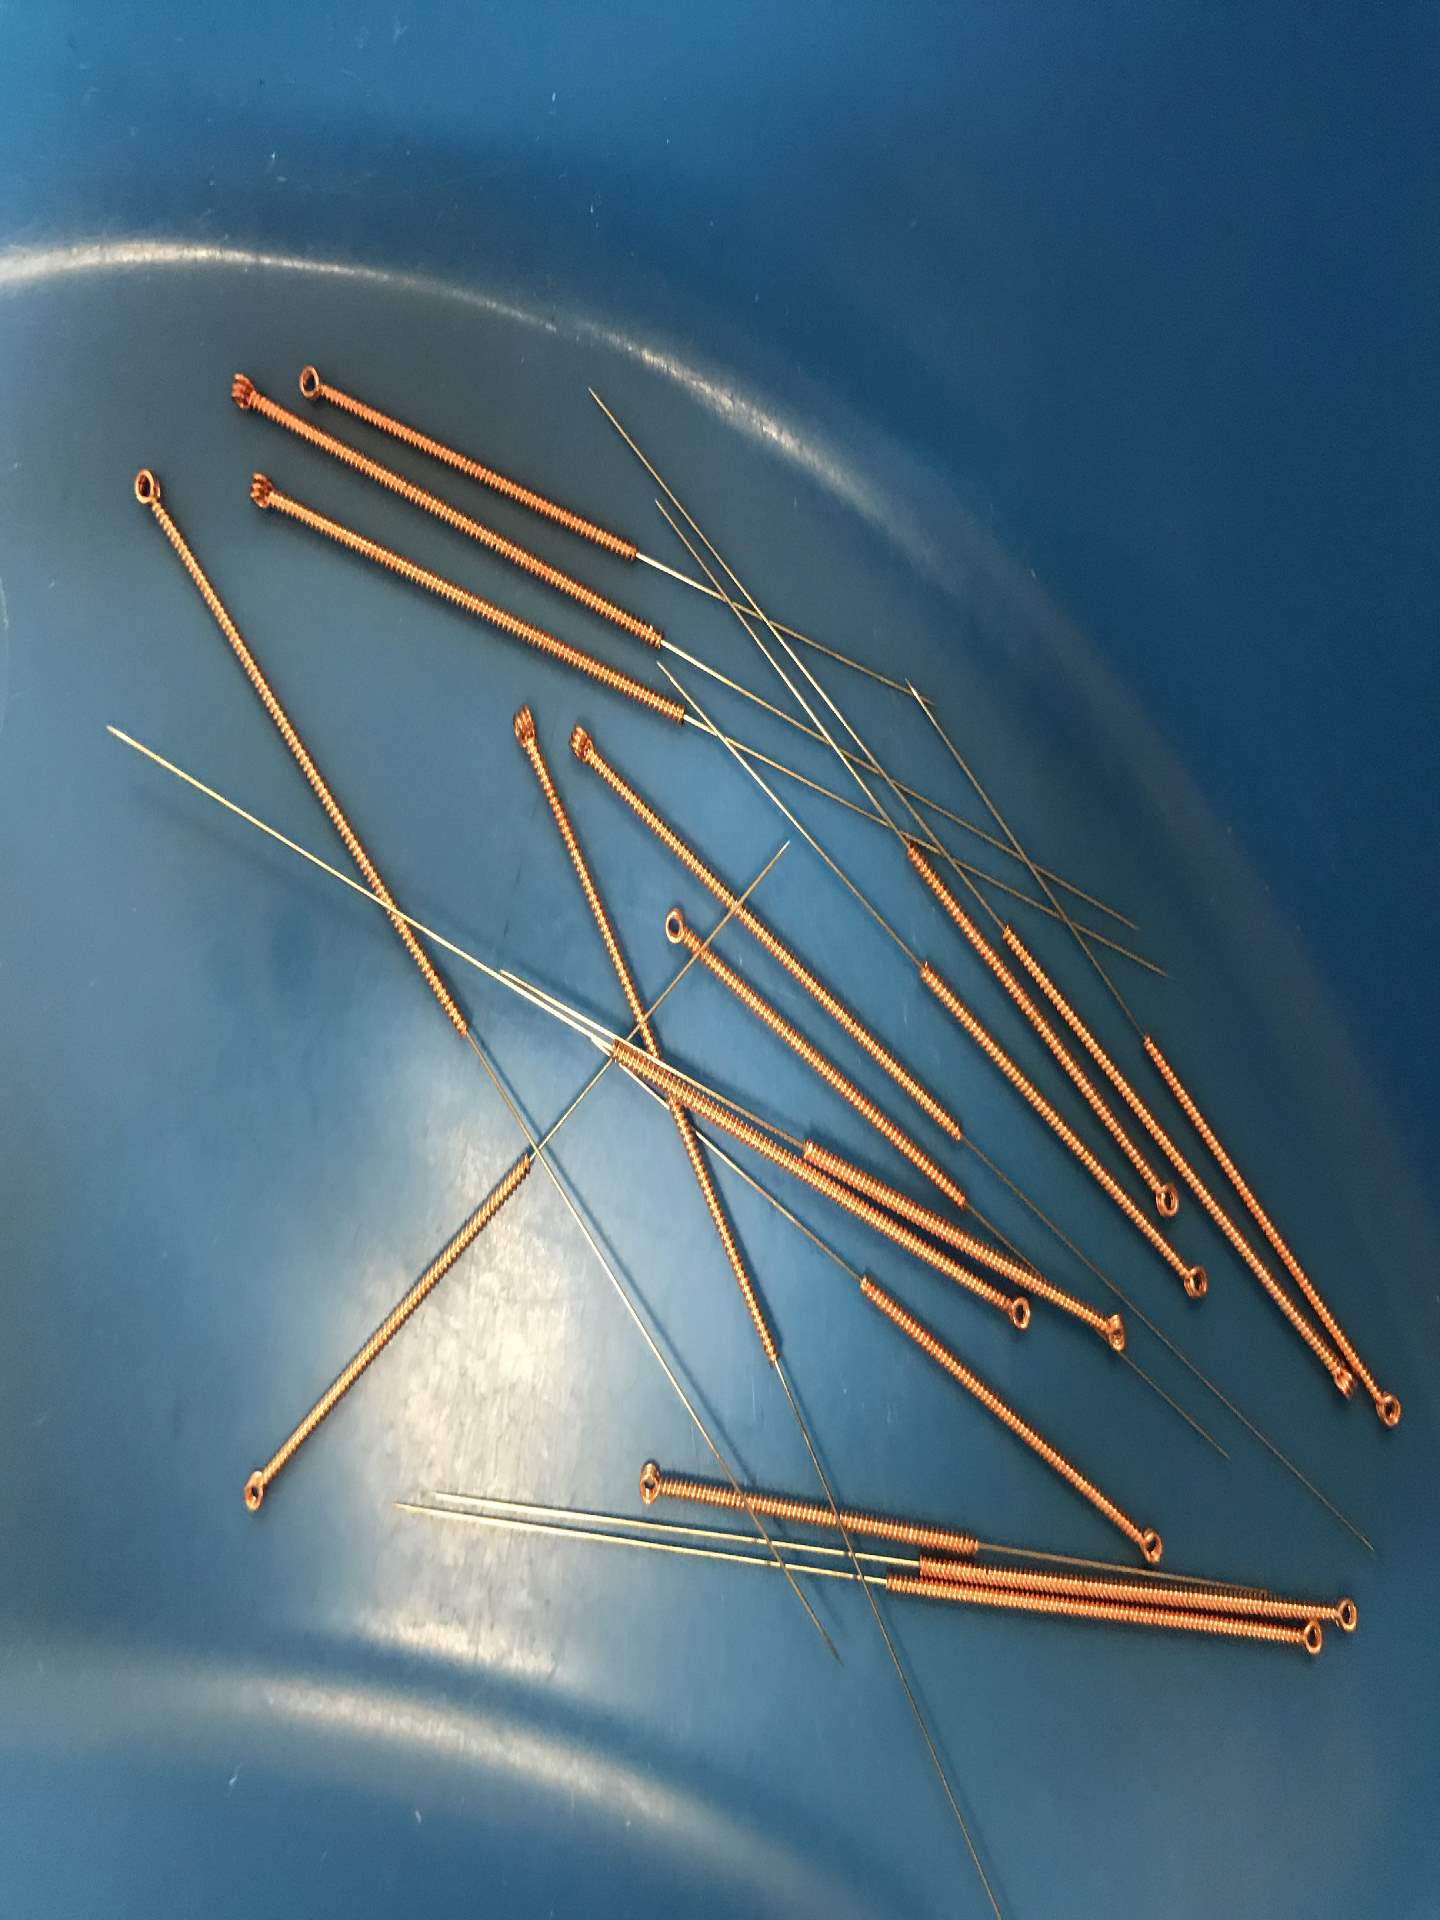needle: (234, 461, 287, 525), (119, 457, 169, 523), (216, 361, 269, 423), (498, 692, 548, 756), (626, 1450, 675, 1513), (231, 1460, 278, 1522), (1086, 1305, 1136, 1361), (652, 901, 700, 958), (1122, 1516, 1174, 1569), (289, 355, 337, 411), (1367, 1377, 1411, 1436), (560, 714, 604, 773), (1172, 1253, 1218, 1309), (1325, 1589, 1367, 1643), (1284, 1613, 1330, 1663), (995, 1288, 1038, 1339), (1147, 1175, 1184, 1226), (1317, 1362, 1358, 1406)
